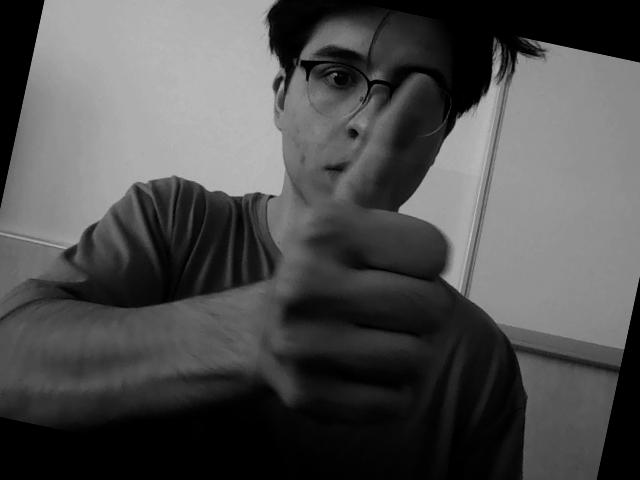good: (250, 139, 482, 426)
